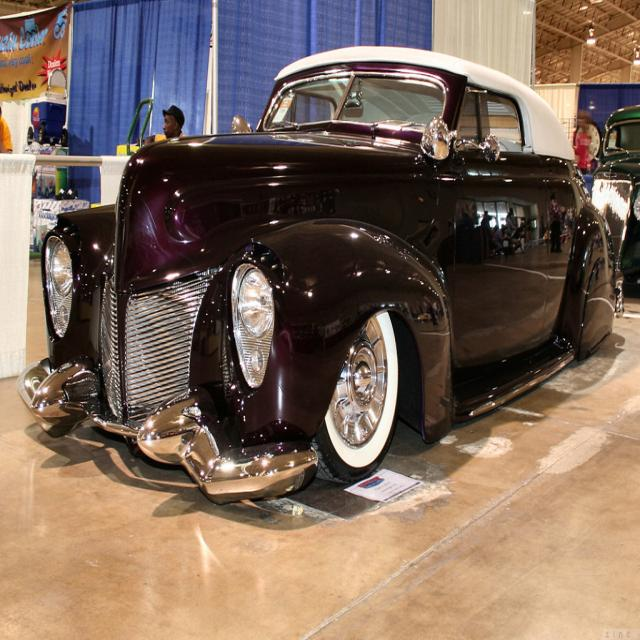car: (14, 41, 624, 506)
